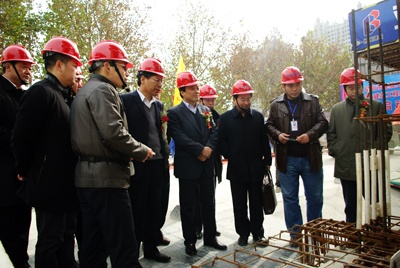red: (42, 36, 82, 87), (89, 39, 131, 87), (2, 45, 32, 86), (136, 57, 166, 97), (230, 78, 255, 111), (279, 66, 305, 97), (340, 67, 365, 99), (177, 70, 200, 102), (198, 84, 216, 110)
